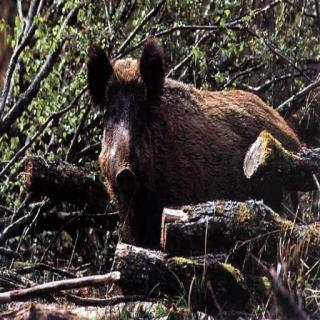Pig: (86, 23, 320, 264)
